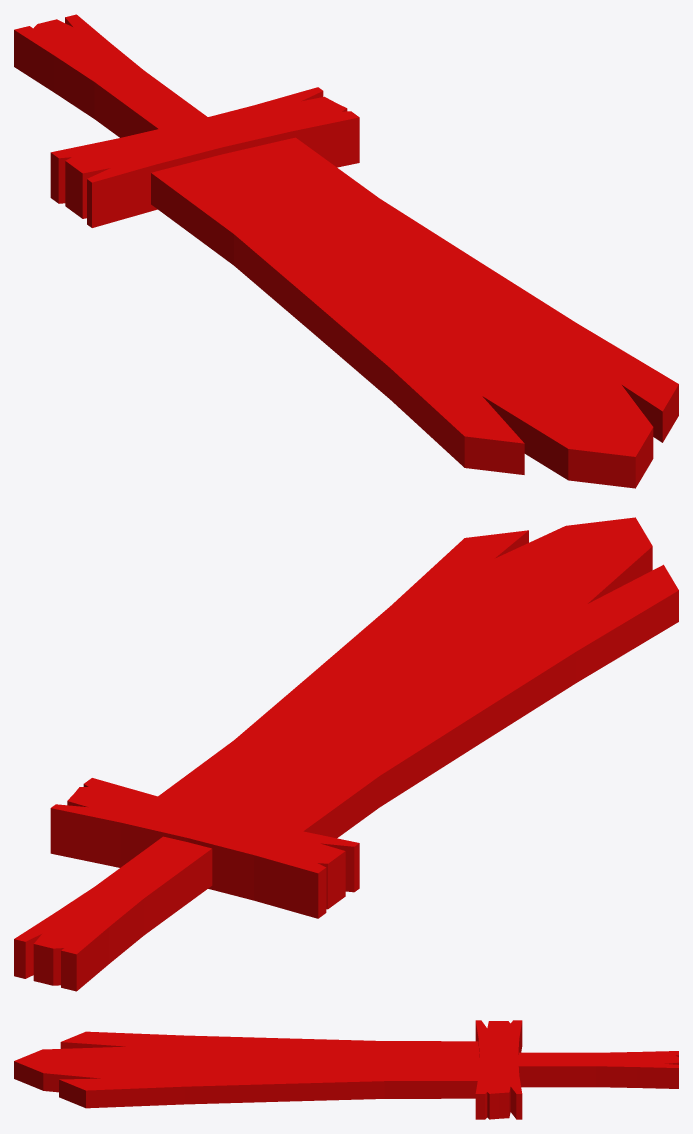
The model's file is weapon_wooden_sword_mesh.fbx.
3 views of the same model, one above another, from view 1: azimuth 30°, elevation 25°; view 2: azimuth 150°, elevation 25°; view 3: azimuth 270°, elevation 25° (orthographic). The views are drawn at different scales.
Parts seen in each view (by area): view 1: weapon_wooden_sword_mesh; view 2: weapon_wooden_sword_mesh; view 3: weapon_wooden_sword_mesh.
Boxes of the visible parts, left/top/right/bottom form: weapon_wooden_sword_mesh: left=14, top=14, right=678, bottom=488; weapon_wooden_sword_mesh: left=14, top=517, right=678, bottom=991; weapon_wooden_sword_mesh: left=14, top=1020, right=678, bottom=1119.
Bounding box in the file's own units: 44.76 × 7.28 × 171.
